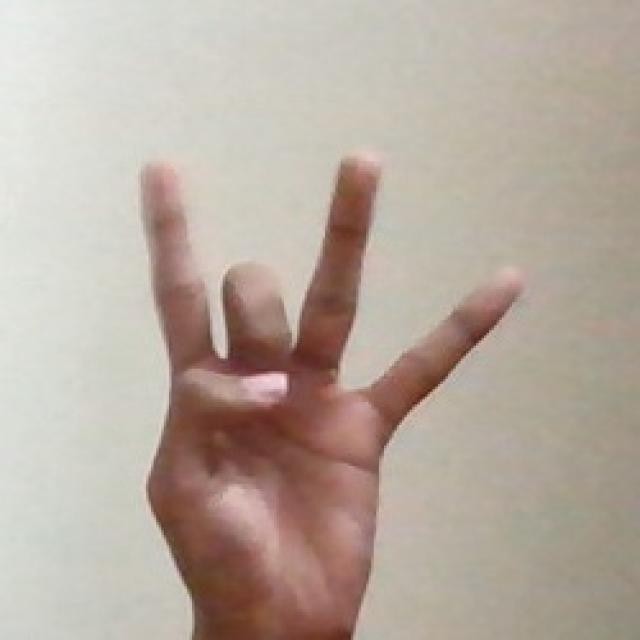Numeric-8: (90, 140, 530, 578)
